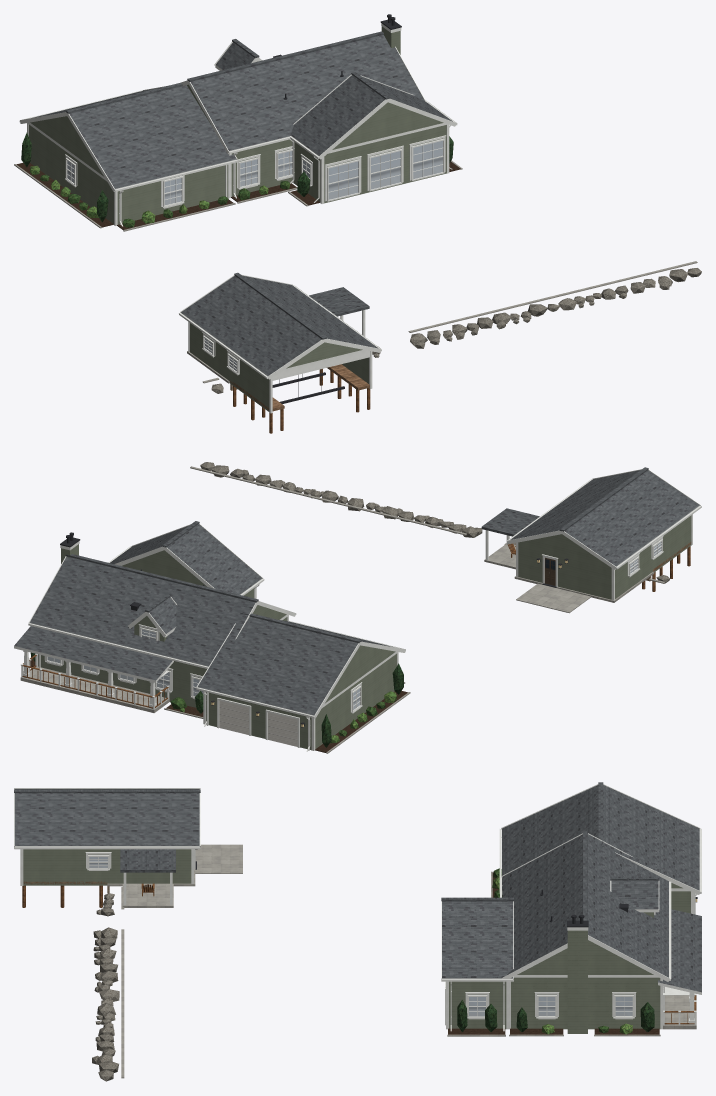
The model's file is lot-8143.fbx.
The picture shows the model from 3 angles, top to bottom: view 1: azimuth 30°, elevation 25°; view 2: azimuth 150°, elevation 25°; view 3: azimuth 270°, elevation 25°; orthographic projection. The views are drawn at different scales.
Parts seen in each view (by area): view 1: lot-8143_LOD0; view 2: lot-8143_LOD0; view 3: lot-8143_LOD0.
Part boxes in pixels (x1=…): lot-8143_LOD0: x1=14, y1=14, x2=701, y2=433; lot-8143_LOD0: x1=14, y1=462, x2=701, y2=753; lot-8143_LOD0: x1=14, y1=782, x2=701, y2=1081.
Size of what is drawn, in the model's own units: 39 by 9.89 by 44.61.
Materials: 2 (2 with a texture image).
